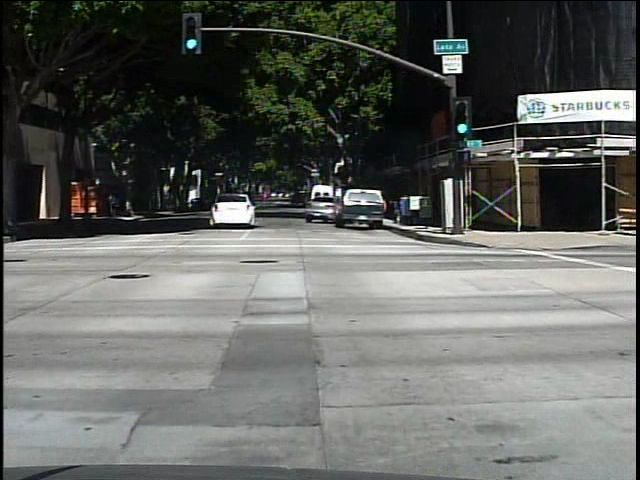person: (103, 186, 119, 220)
